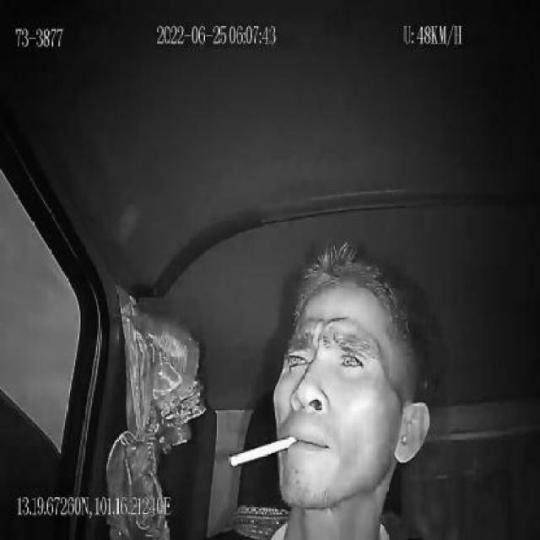smoking: (228, 431, 300, 471)
